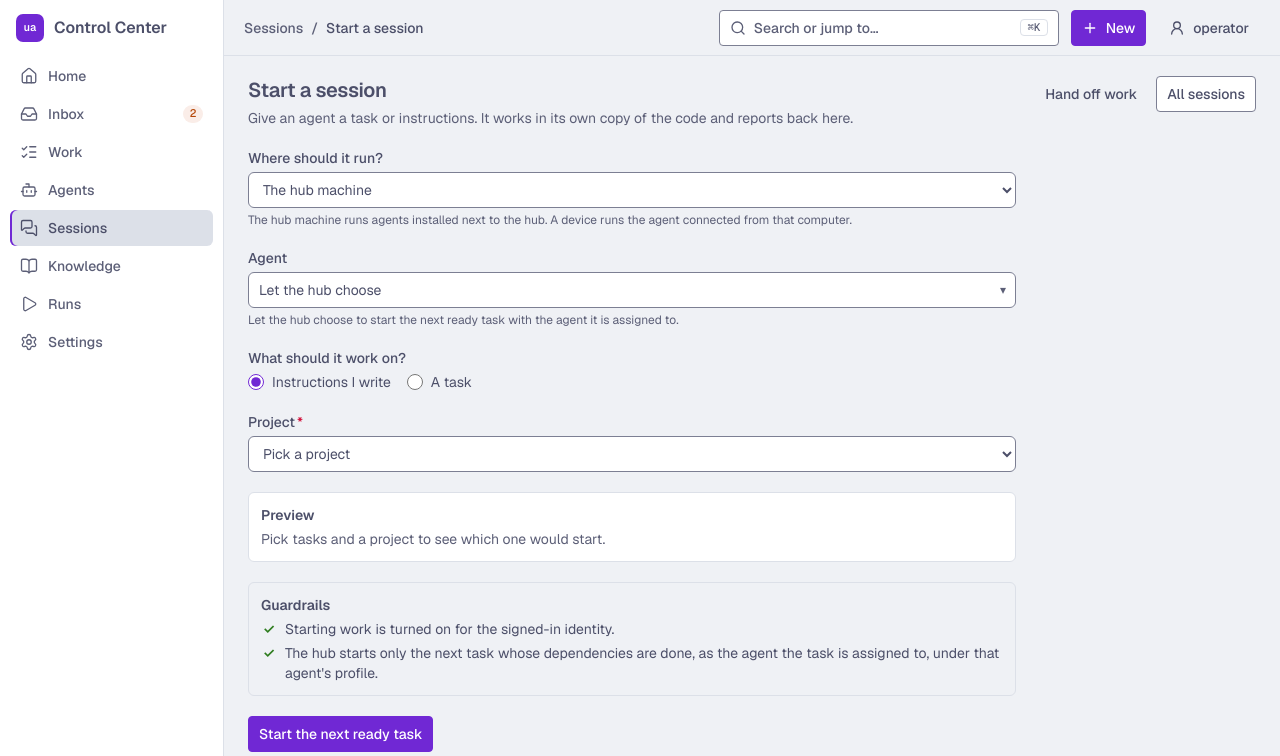
launch guard › route present: 'in_progress' keeps further launches blocked
expect the button "Start the next ready task" is shown: met, box [248,716,434,752]
Replace the text in the dropdown labelled "Agent" with "Desktop_": (632, 290) [248,272,1016,308]
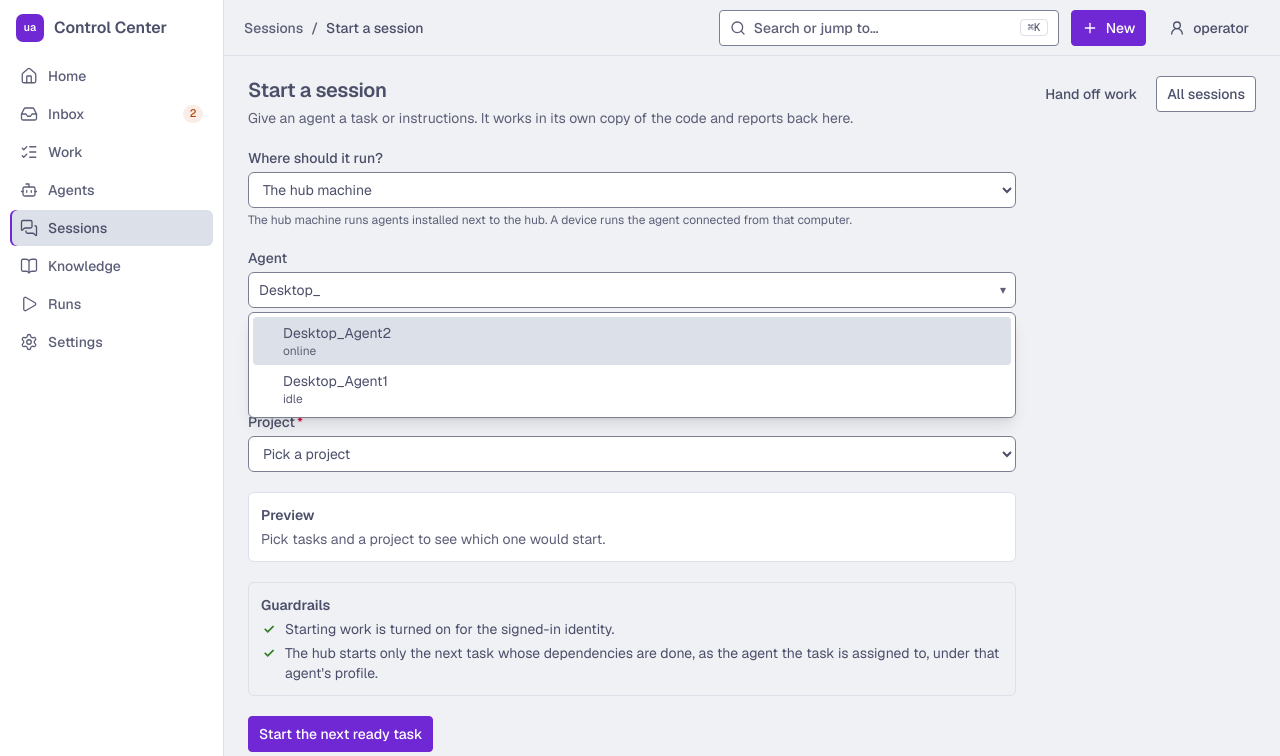
Press the mouse on the option "Desktop_Agent2 online": (337, 333) [253,317,1011,365]
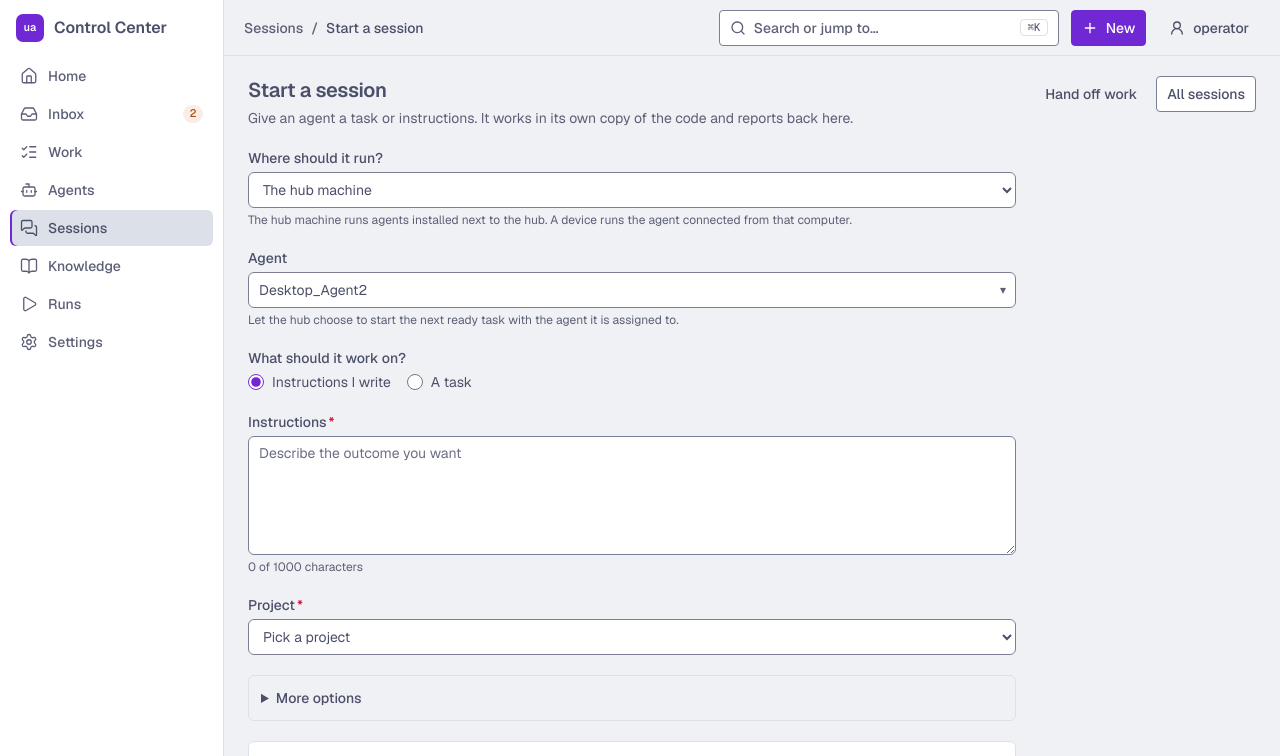
In the text box labelled "Instructions*": (632, 496) [248,436,1016,555], type "Tidy the README"
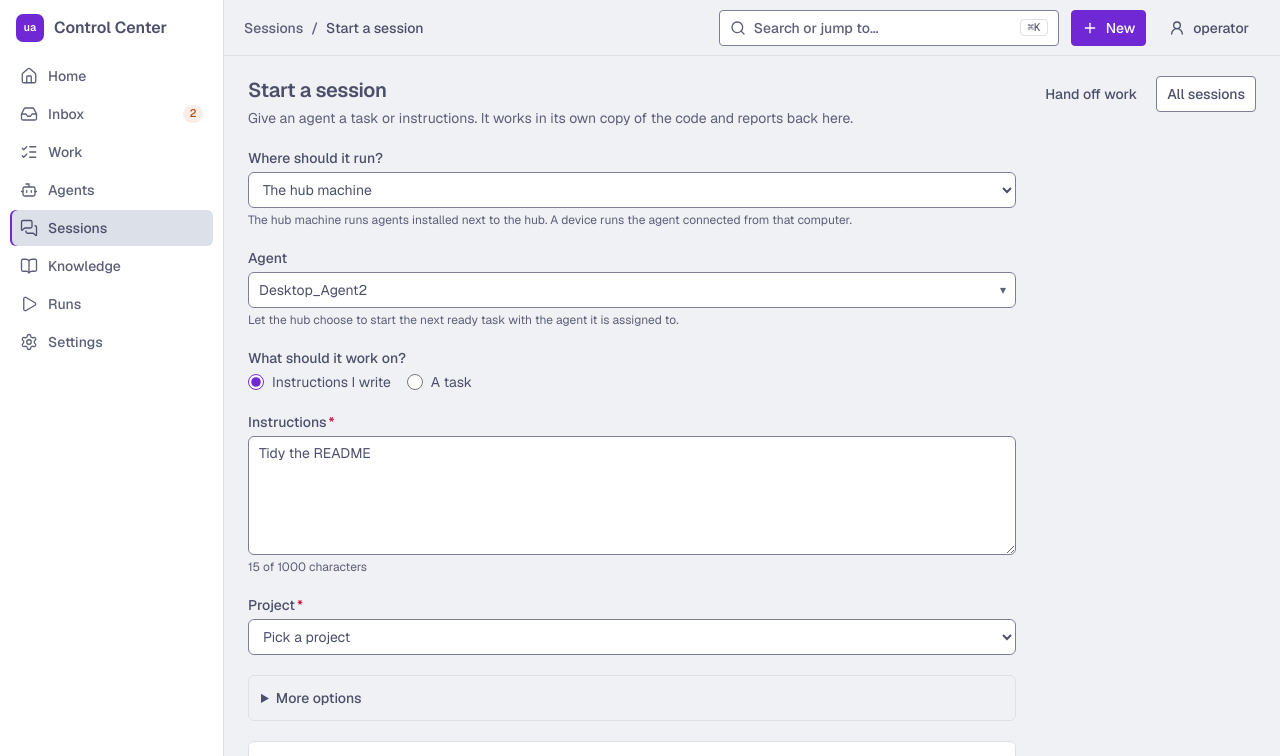
Select "Unified agent" in the dropdown labelled "Project*": (632, 637) [248,619,1016,655]
(page scrolled)
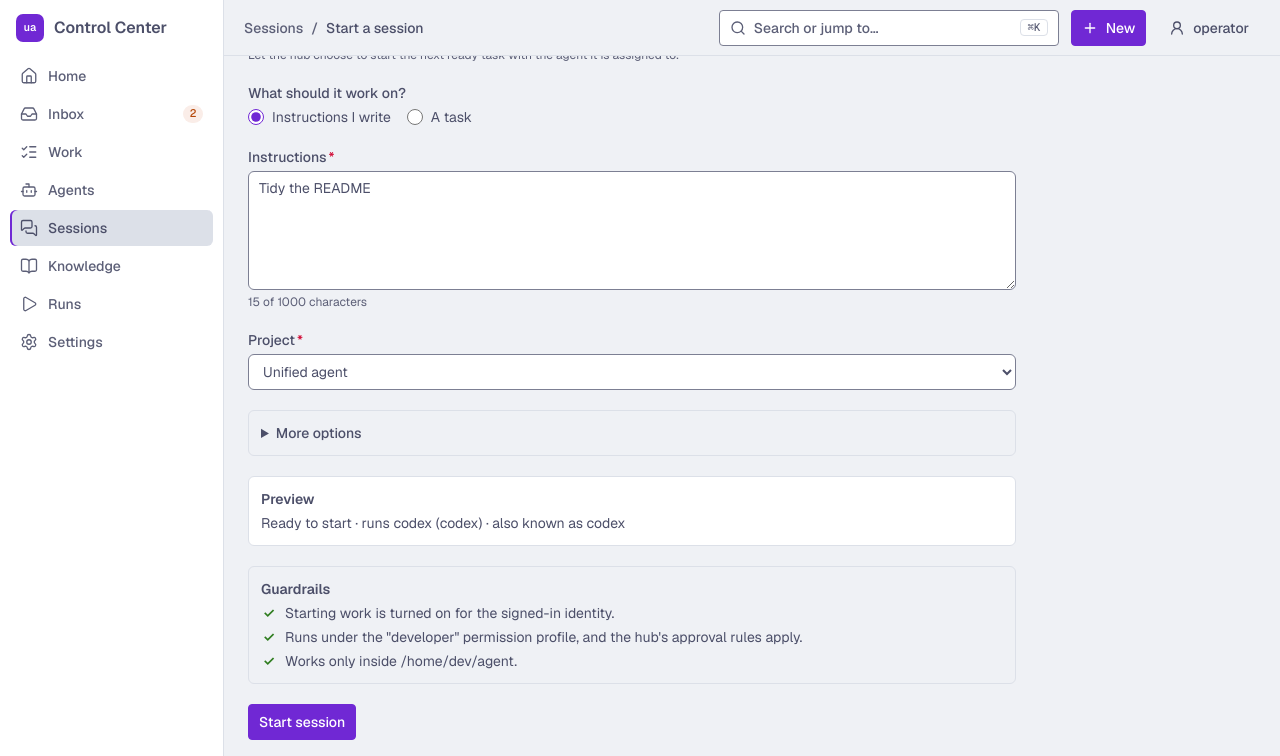
Click the button "Start session": (302, 722) [248,704,356,740]
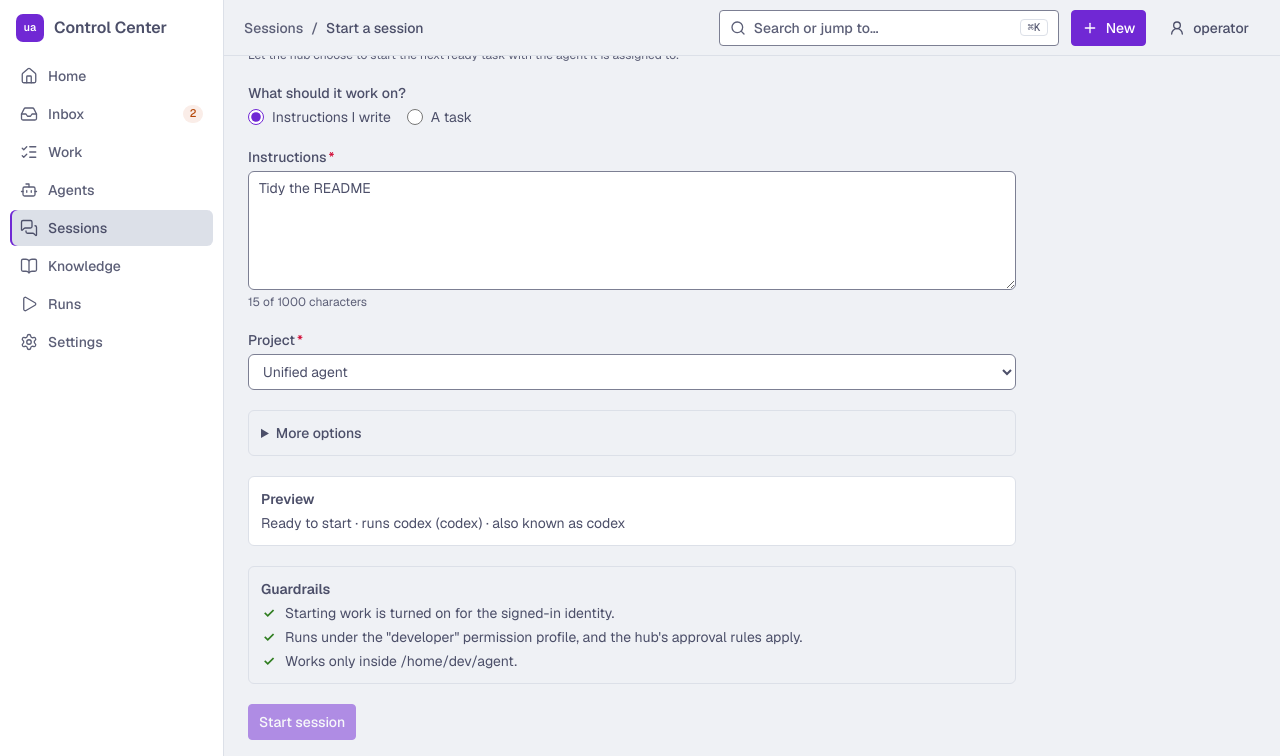
expect the button "Start session" is disabled: met, box [248,704,356,740]
